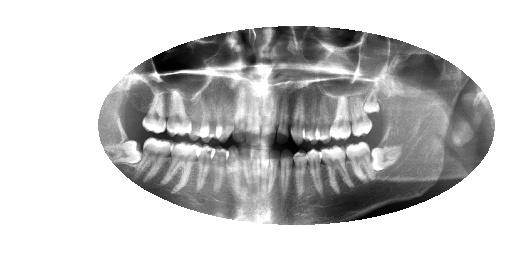i10healthy: (242, 147, 251, 197)
i11healthy: (225, 143, 244, 198)
i12healthy: (208, 145, 230, 197)
i13healthy: (193, 142, 216, 198)
i14healthy: (157, 141, 204, 196)
i15healthy: (132, 132, 173, 185)
i16healthy: (101, 136, 143, 167)
i1healthy: (369, 140, 403, 172)
i2healthy: (343, 139, 374, 184)
i3healthy: (322, 146, 356, 195)
i4chipped: (305, 147, 328, 196)
i5healthy: (292, 148, 308, 199)
i6decay: (275, 148, 294, 198)
i7decay: (266, 147, 281, 201)
i8healthy: (257, 151, 270, 197)
i9healthy: (250, 153, 259, 197)
u10healthy: (228, 84, 249, 144)
u11healthy: (215, 90, 236, 145)
u12healthy: (199, 91, 215, 144)
u13healthy: (186, 87, 202, 142)
u14healthy: (165, 84, 192, 138)
u15healthy: (141, 90, 168, 136)
u16healthy: (121, 82, 145, 127)
u1healthy: (362, 77, 384, 115)
u2healthy: (347, 89, 374, 140)
u3healthy: (328, 87, 354, 143)
u4healthy: (314, 82, 332, 143)
u5healthy: (302, 90, 317, 144)
u6healthy: (285, 88, 308, 147)
u7decay: (272, 91, 291, 147)
u8healthy: (256, 84, 278, 146)
u9healthy: (243, 83, 262, 149)
